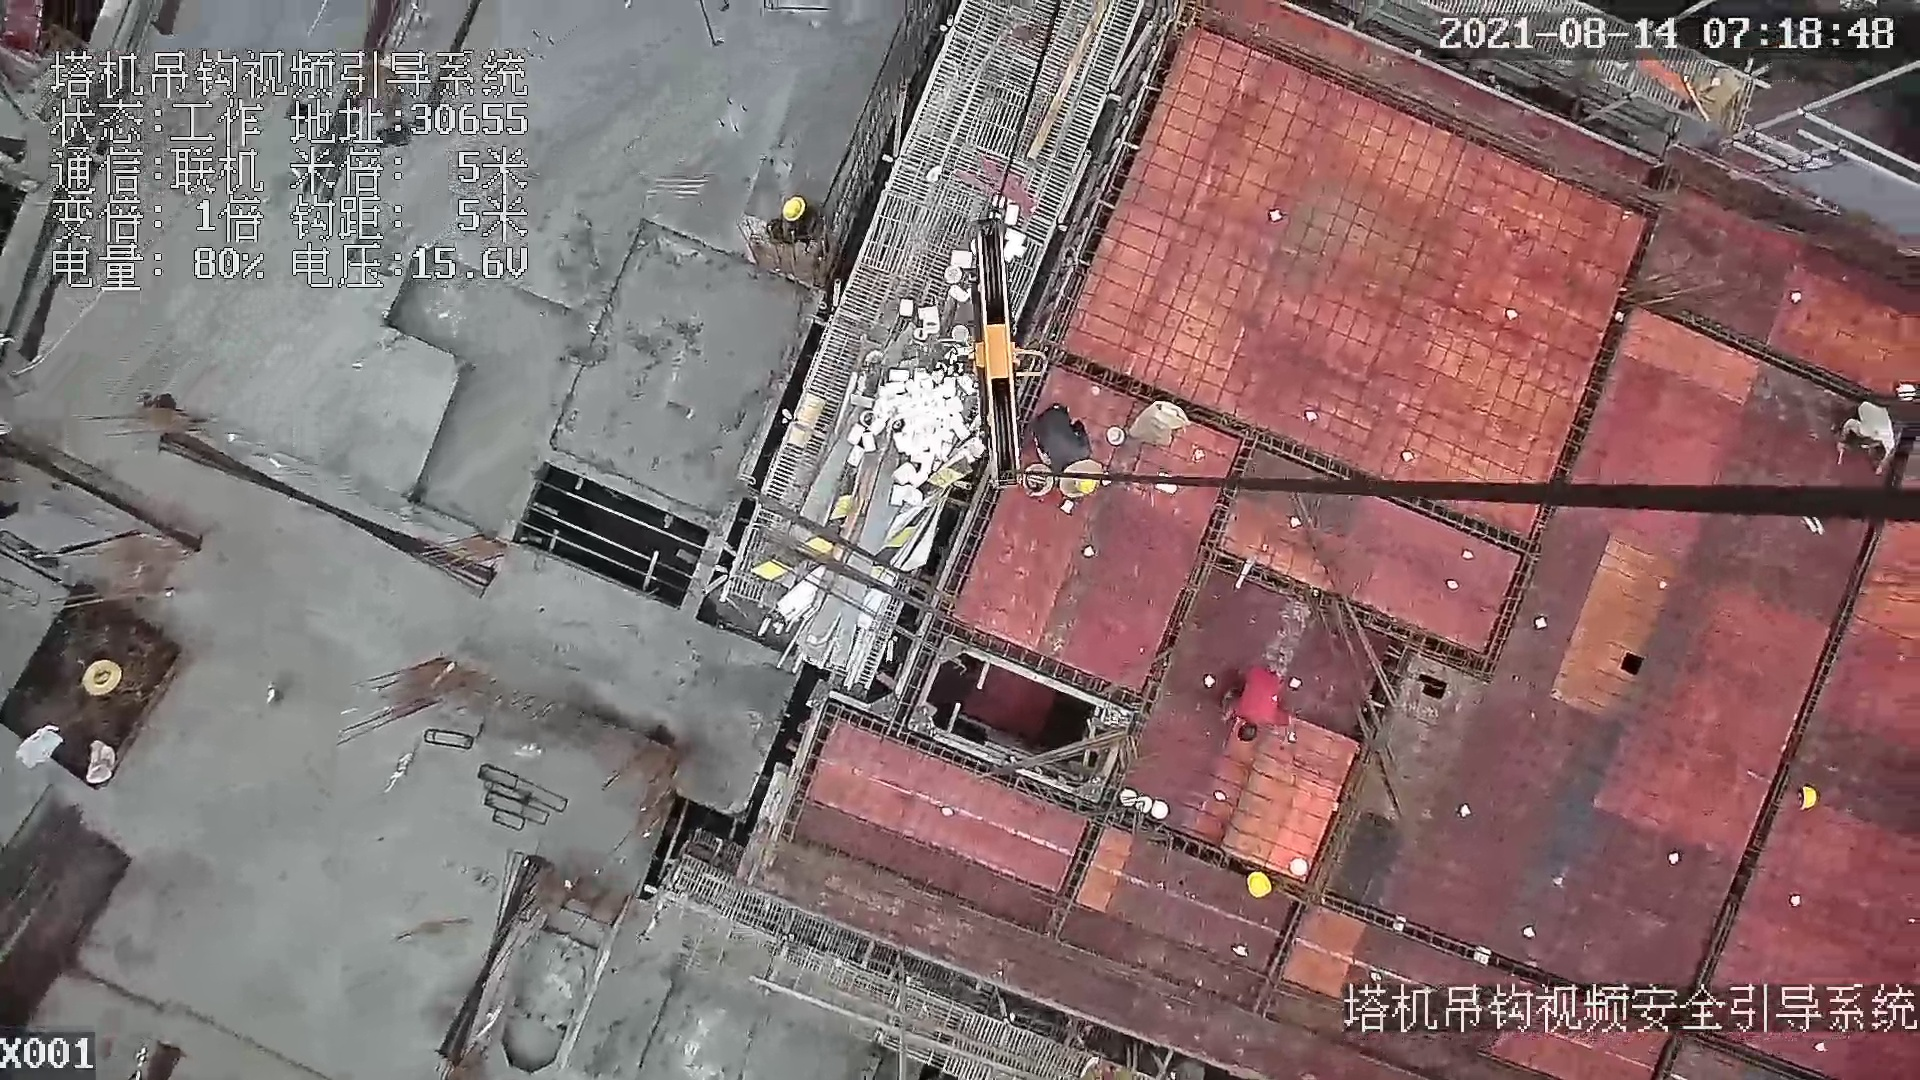helmet: (1244, 868, 1281, 901), (778, 198, 806, 217)
hook: (955, 214, 1062, 504)
person: (44, 656, 138, 783), (1224, 663, 1300, 741), (769, 200, 835, 249)
